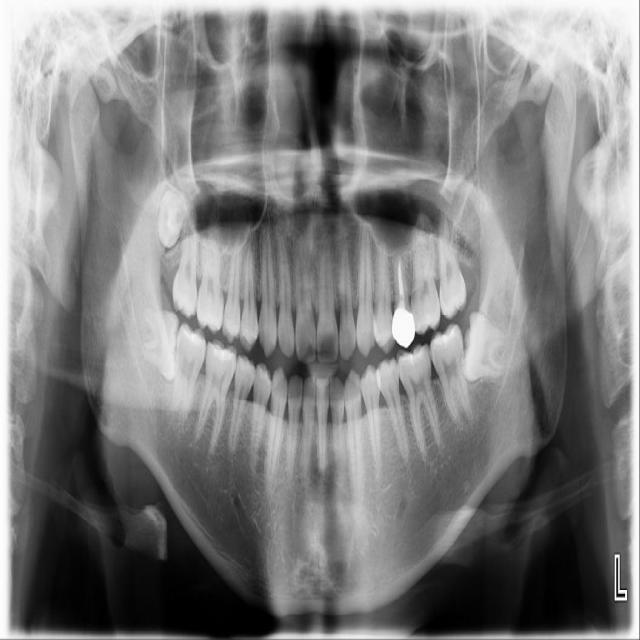3M ESPE Implant: (151, 190, 193, 251)
52: (390, 301, 417, 348)
73: (393, 251, 410, 309), (612, 562, 618, 572)
BioHorizons Implant: (432, 213, 469, 321)
Biomet 3i Implant: (461, 311, 508, 383)
Blue Sky Bio Implant: (426, 322, 474, 428)
Caries: (171, 212, 198, 320)
Implant: (169, 323, 208, 424)
Keystone Dental Implant: (141, 309, 180, 379)
